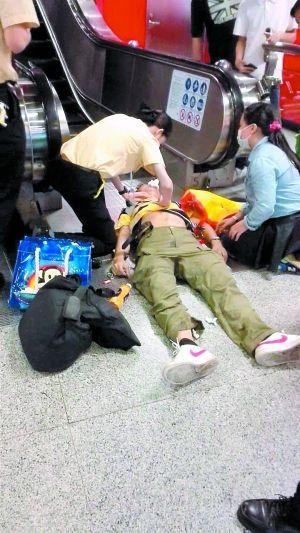falling: (102, 160, 297, 388)
